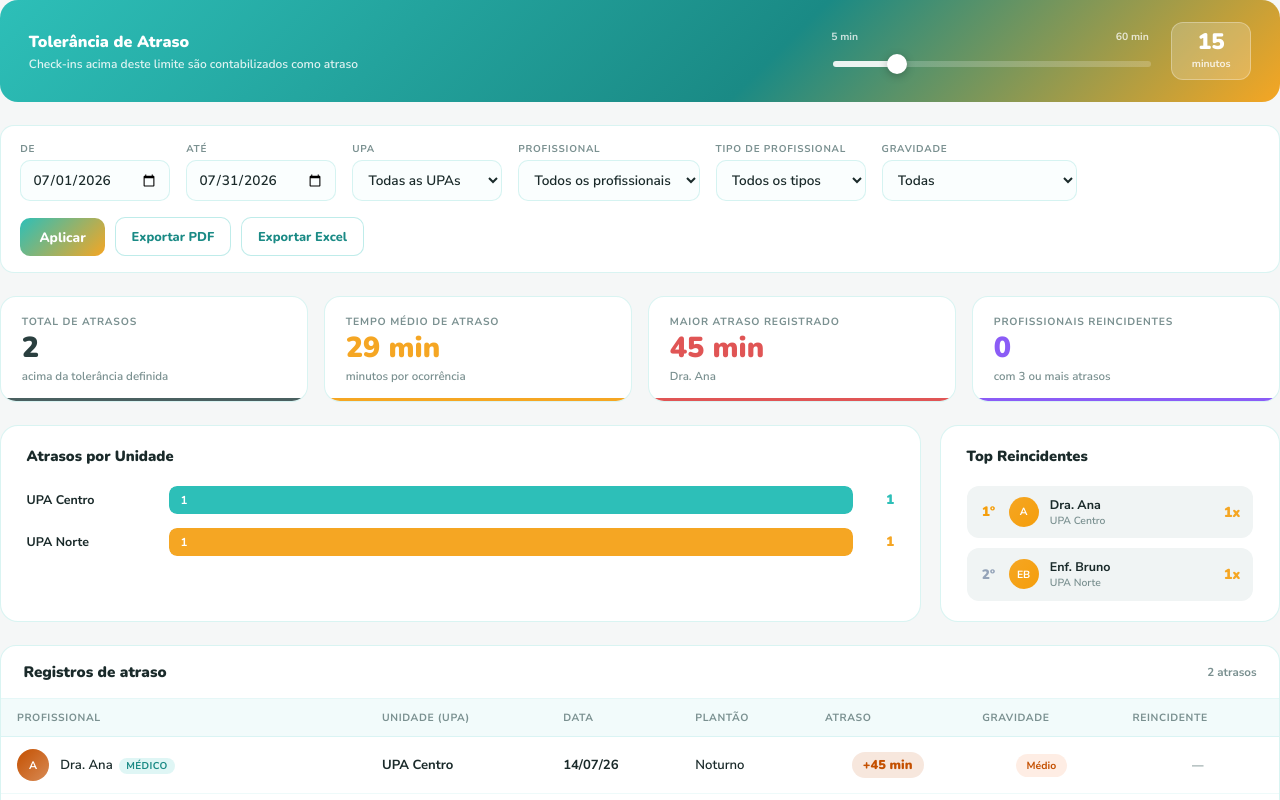
Test: <PrefeituraAtrasos /> › filtra por tipo de profissional via select
The width and height of the screenshot is (1280, 800).
Select "Enfermeiro(a)" in the dropdown labelled "Tipo de profissional": (791, 181) [716,160,866,201]
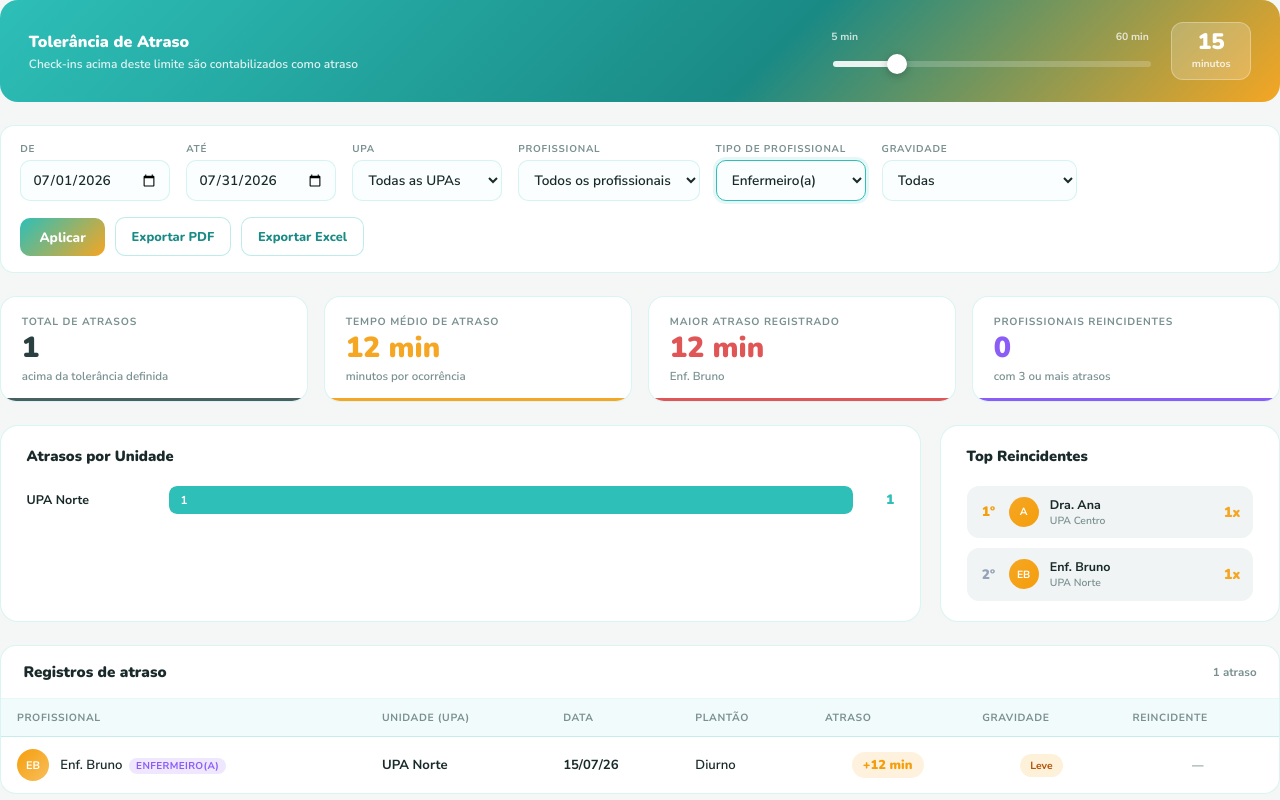
Expected: the text "+45 min" is gone
